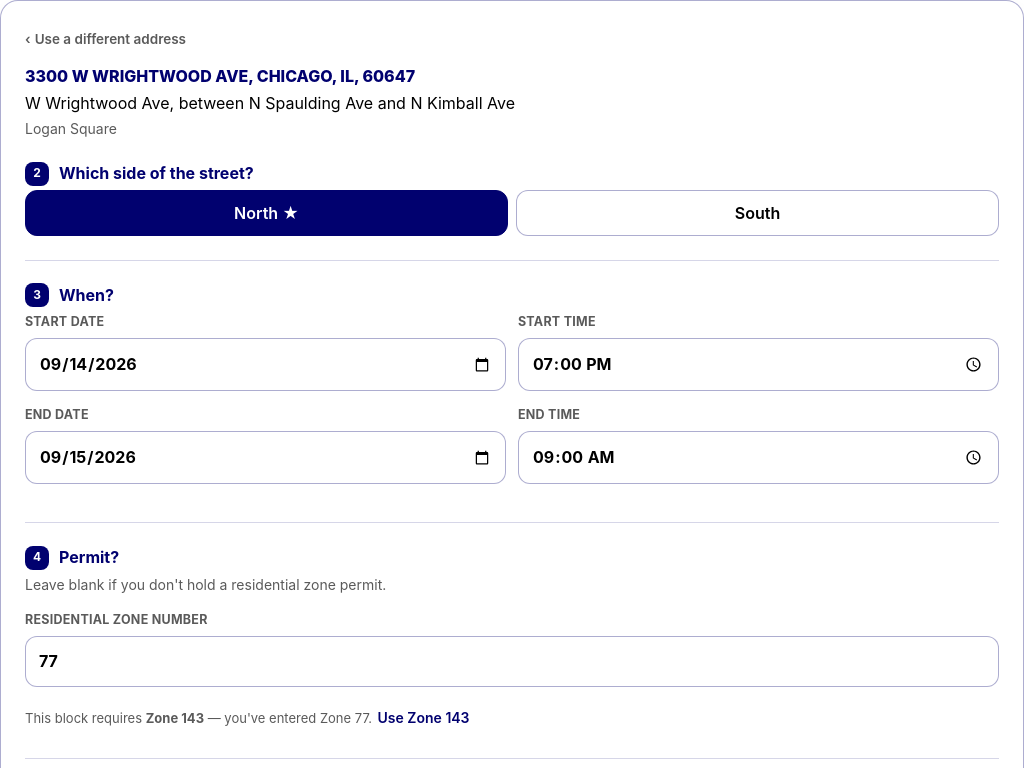
Scenario: BlockConfirm permit-zone suggestion › clicking "Use Zone X" accepts the suggestion over a mismatched value
The width and height of the screenshot is (1024, 768).
Click the button "Use Zone 143" at (424, 718), box [376, 701, 472, 734]
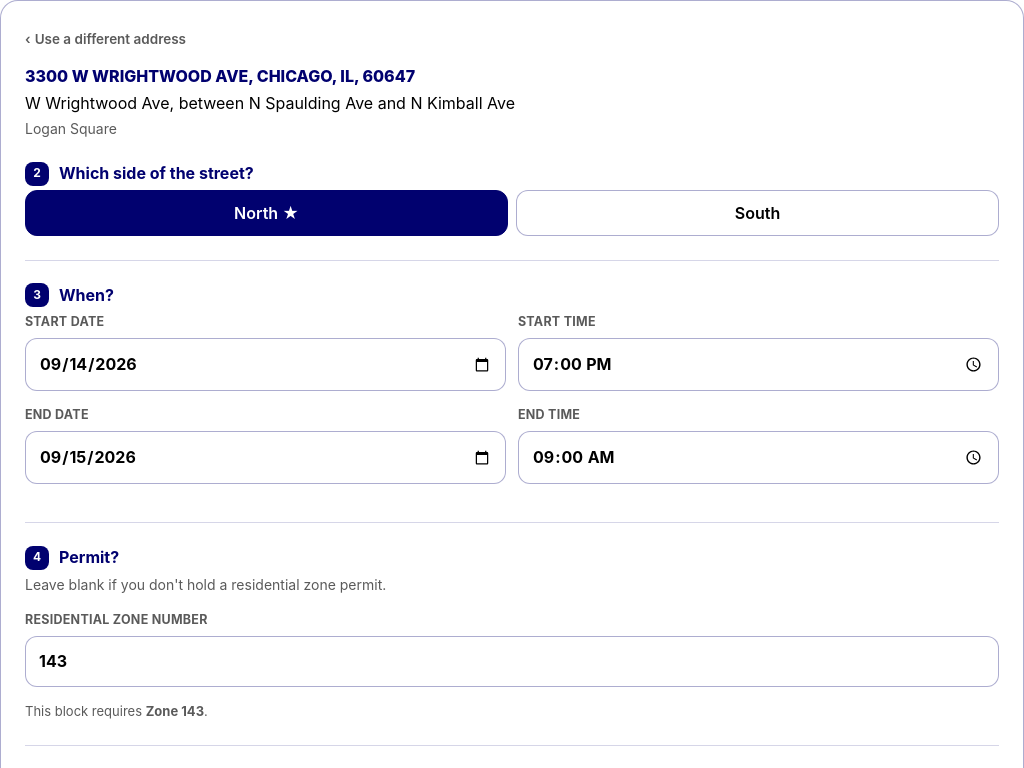
expect the field labelled "Residential zone number" holds "143": met, box [25, 636, 999, 687]
